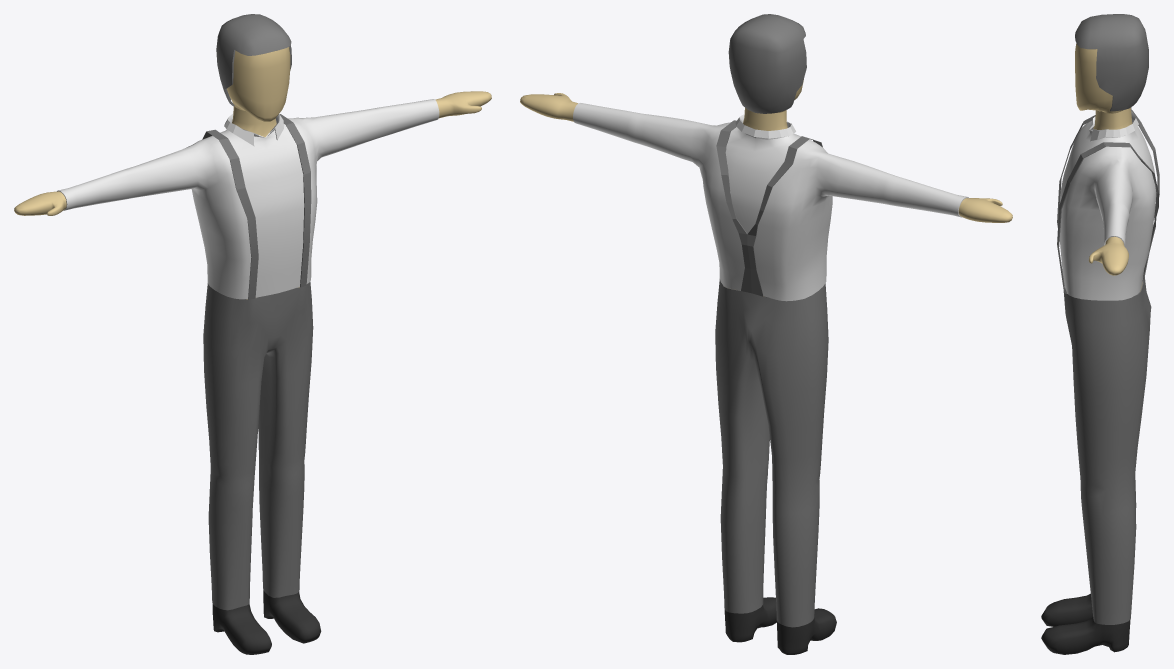
Rendered from Panttilainaamo.fbx.
3 renders of one model, left to right at view 1: azimuth 30°, elevation 25°; view 2: azimuth 150°, elevation 25°; view 3: azimuth 270°, elevation 25°, orthographic. The views are drawn at different scales.
Parts seen in each view (by area): view 1: pants, shirt, body, shoes, hair; view 2: pants, shirt, hair, body, shoes; view 3: pants, shirt, hair, shoes, body.
Boxes of the visible parts, x1,y1,x2,y2 form: pants: [202, 114, 313, 610]; shirt: [57, 99, 439, 299]; body: [14, 47, 491, 299]; shoes: [212, 590, 321, 654]; hair: [216, 14, 291, 106]; pants: [715, 120, 828, 627]; shirt: [573, 103, 968, 301]; hair: [728, 14, 806, 113]; body: [520, 79, 1012, 296]; shoes: [724, 597, 836, 654]; pants: [1057, 110, 1159, 624]; shirt: [1059, 107, 1156, 300]; hair: [1075, 14, 1148, 111]; shoes: [1041, 594, 1130, 654]; body: [1075, 43, 1142, 291].
Size of the model in its own units: 176 by 213 by 37.08.
